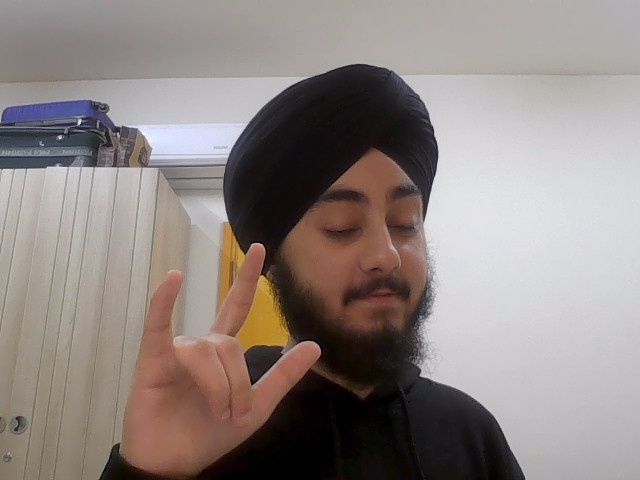ILoveYou: (128, 237, 321, 480)
